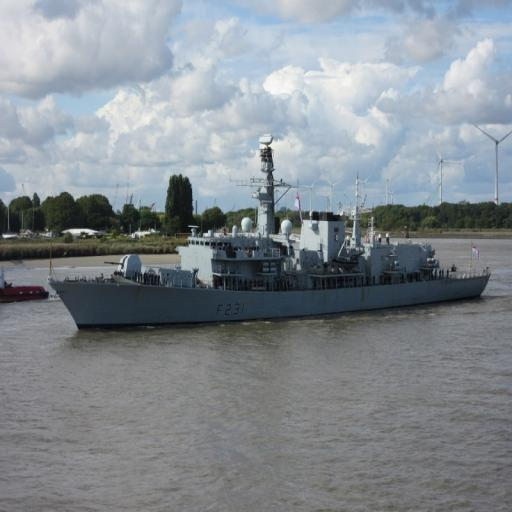Fragata: (45, 126, 493, 337)
